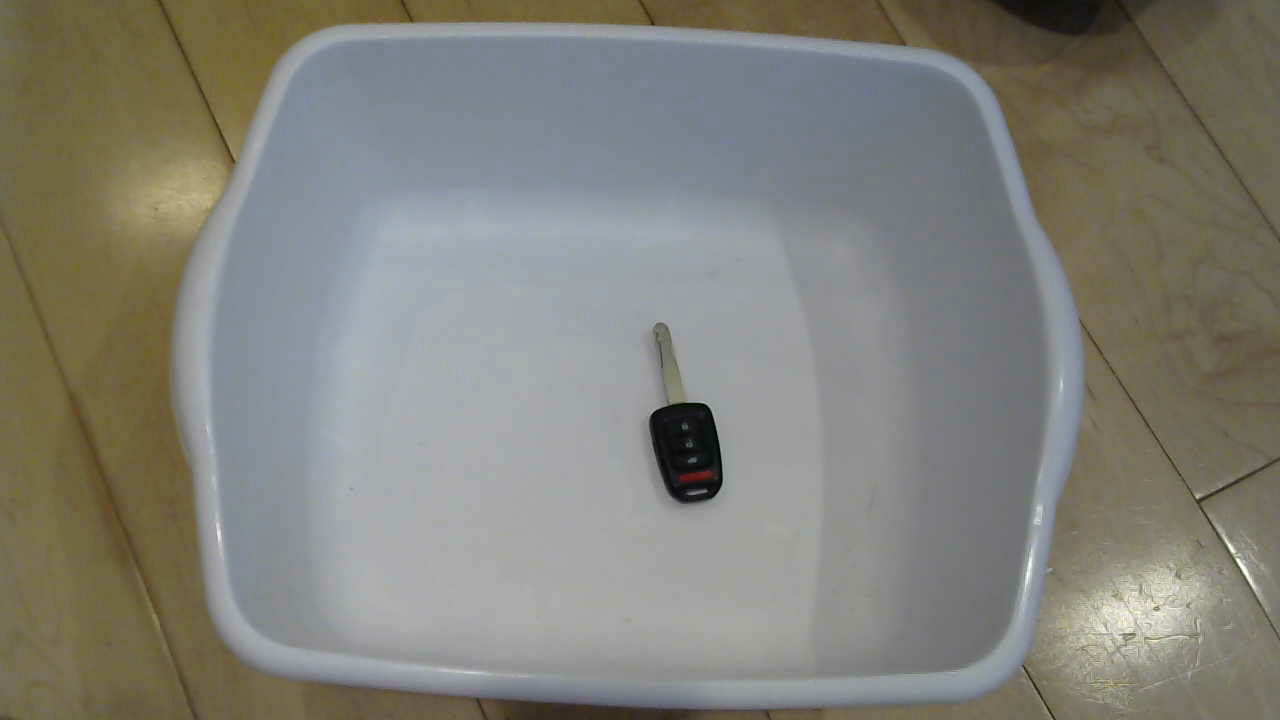key: (598, 321, 752, 513)
